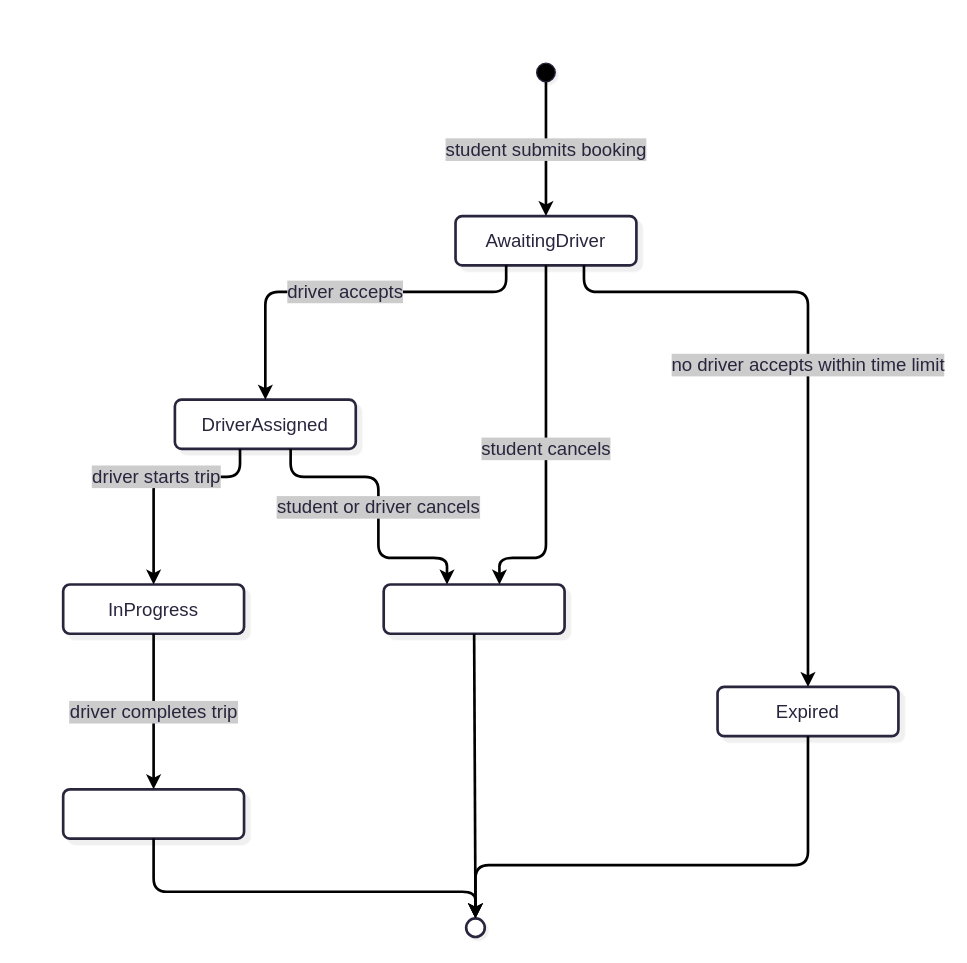
Image size: 967x963. Some labels were removed from this diagram. The shapes that lost their labels are listed below. From the top down, each one's centre as x and y in pixels, then its label:
At pixel 476 611: "Cancelled".
At pixel 155 816: "Completed".
